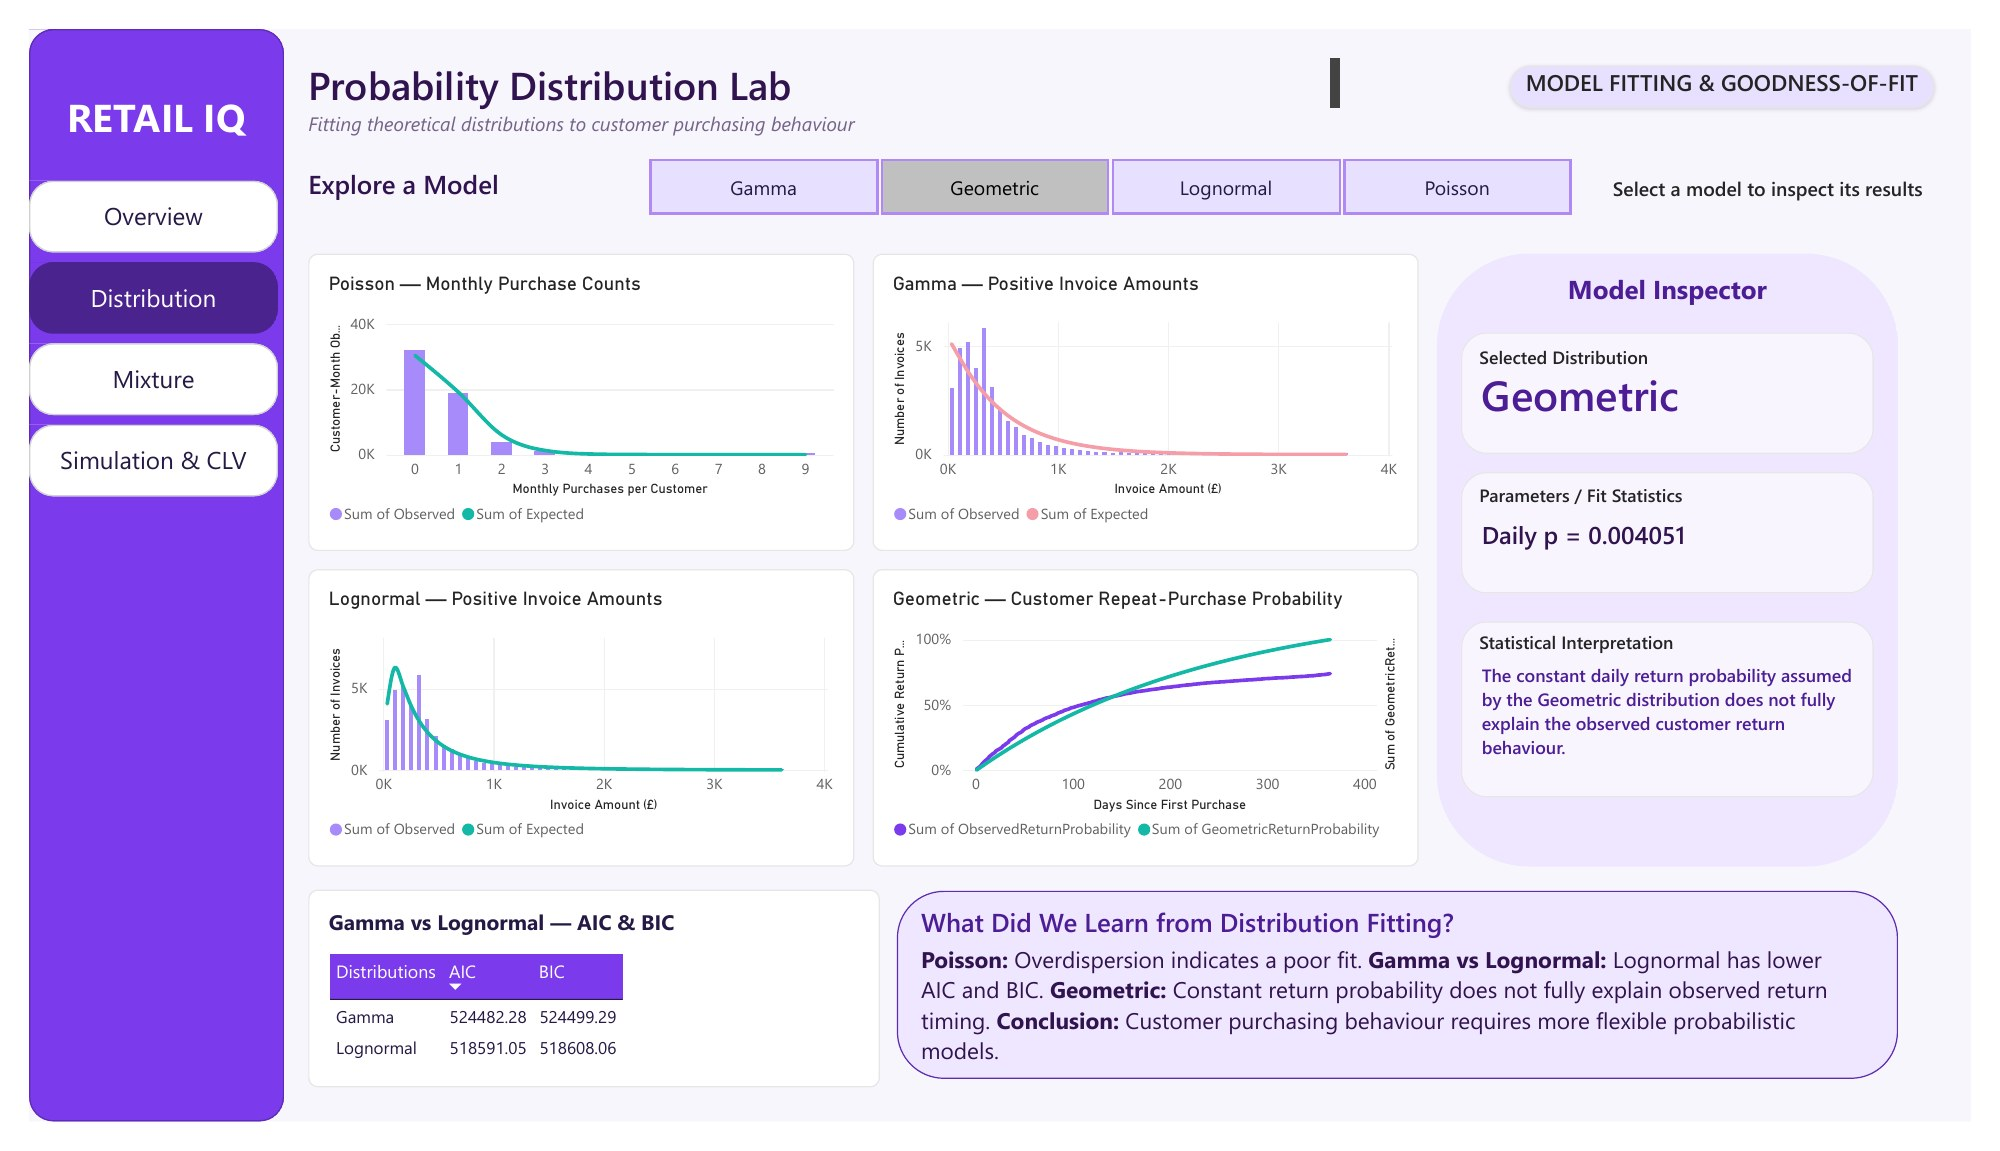

The dashboard page shown, as its layout file describes it:
{"tool":"powerbi","page":{"name":"Distribution","canvas":[1600,900],"ordinal":1},"visuals":[{"type":"shape","box":[715,710,825,155],"z":0},{"type":"shape","box":[1160,185,380,505],"z":1000},{"type":"shape","box":[0,0,210,900],"z":2000},{"type":"textbox","box":[0,50,210,71],"z":3000},{"type":"pageNavigator","box":[0,125,205,263],"z":4000},{"type":"textbox","box":[230,24,850,42],"z":5000},{"type":"textbox","box":[230,67,850,25],"z":6000},{"type":"textbox","box":[1220,30,350,35],"z":7000},{"type":"textbox","box":[230,113,240,32],"z":8000},{"type":"slicer","fields":{"Values":["ModelSelector.Model"]},"box":[490,105,800,50],"z":9000},{"type":"textbox","box":[1305.2,120.6,266,34.9],"z":10000},{"type":"lineClusteredColumnComboChart","title":"Poisson — Monthly Purchase Counts","fields":{"Category":["Poisson_Observed_Expected.CountCategory"],"Y":["Sum(Poisson_Observed_Expected.Observed)"],"Y2":["Sum(Poisson_Observed_Expected.Expected)"]},"box":[230,185,450,245],"z":11000},{"type":"lineClusteredColumnComboChart","title":"Gamma — Positive Invoice Amounts","fields":{"Category":["Gamma_Observed_Expected.BinCenter"],"Y":["Sum(Gamma_Observed_Expected.Observed)"],"Y2":["Sum(Gamma_Observed_Expected.Expected)"]},"box":[695,185,450,245],"z":12000},{"type":"lineClusteredColumnComboChart","title":"Lognormal — Positive Invoice Amounts","fields":{"Category":["Lognormal_Observed_Expected.BinCenter"],"Y":["Sum(Lognormal_Observed_Expected.Observed)"],"Y2":["Sum(Lognormal_Observed_Expected.Expected)"]},"box":[230,445,450,245],"z":13000},{"type":"lineChart","title":"Geometric — Customer Repeat-Purchase Probability","fields":{"Category":["Geometric_Return_Curves.Day"],"Y":["Sum(Geometric_Return_Curves.ObservedReturnProbability)"],"Y2":["Sum(Geometric_Return_Curves.GeometricReturnProbability)"]},"box":[695,445,450,245],"z":14000},{"type":"textbox","box":[1180,200,340,34],"z":15000},{"type":"cardVisual","fields":{"Data":["ModelSelector.Selected Model Name"]},"box":[1180,250,340,100],"z":16000},{"type":"textbox","box":[1195,260,300,24],"z":17000},{"type":"cardVisual","fields":{"Data":["ModelSelector.Model Parameters"]},"box":[1180,365,340,100],"z":18000},{"type":"textbox","box":[1195,374,310,25],"z":19000},{"type":"cardVisual","fields":{"Data":["ModelSelector.Model Interpretation"]},"box":[1180.2,488.4,340.1,145.3],"z":20000},{"type":"textbox","box":[1195,495,310,25],"z":21000},{"type":"tableEx","title":"Gamma vs Lognormal — AIC & BIC","fields":{"Values":["InvoiceModelComparison.Distributions","InvoiceModelComparison.AIC","InvoiceModelComparison.BIC"]},"box":[229.7,709.3,470.9,162.8],"z":22000},{"type":"textbox","box":[735.5,720.9,784.9,33.4],"z":22001},{"type":"textbox","box":[735.5,754.4,774.7,110.5],"z":22002}]}

Visuals, with their boxes in screenshot pixels (x1, y1, x2, y2), scaled from the page's 1600x900 canvas onto the 2000x1151 screenshot:
shape: {"x1": 894, "y1": 908, "x2": 1925, "y2": 1106}
shape: {"x1": 1450, "y1": 237, "x2": 1925, "y2": 882}
shape: {"x1": 0, "y1": 0, "x2": 262, "y2": 1150}
textbox: {"x1": 0, "y1": 64, "x2": 262, "y2": 155}
pageNavigator: {"x1": 0, "y1": 160, "x2": 256, "y2": 496}
textbox: {"x1": 288, "y1": 31, "x2": 1350, "y2": 84}
textbox: {"x1": 288, "y1": 86, "x2": 1350, "y2": 118}
textbox: {"x1": 1525, "y1": 38, "x2": 1962, "y2": 83}
textbox: {"x1": 288, "y1": 145, "x2": 588, "y2": 185}
slicer - ModelSelector.Model: {"x1": 612, "y1": 134, "x2": 1612, "y2": 198}
textbox: {"x1": 1632, "y1": 154, "x2": 1964, "y2": 199}
"Poisson — Monthly Purchase Counts" lineClusteredColumnComboChart: {"x1": 288, "y1": 237, "x2": 850, "y2": 550}
"Gamma — Positive Invoice Amounts" lineClusteredColumnComboChart: {"x1": 869, "y1": 237, "x2": 1431, "y2": 550}
"Lognormal — Positive Invoice Amounts" lineClusteredColumnComboChart: {"x1": 288, "y1": 569, "x2": 850, "y2": 882}
"Geometric — Customer Repeat-Purchase Probability" lineChart: {"x1": 869, "y1": 569, "x2": 1431, "y2": 882}
textbox: {"x1": 1475, "y1": 256, "x2": 1900, "y2": 299}
cardVisual - ModelSelector.Selected Model Name: {"x1": 1475, "y1": 320, "x2": 1900, "y2": 448}
textbox: {"x1": 1494, "y1": 333, "x2": 1869, "y2": 363}
cardVisual - ModelSelector.Model Parameters: {"x1": 1475, "y1": 467, "x2": 1900, "y2": 595}
textbox: {"x1": 1494, "y1": 478, "x2": 1881, "y2": 510}
cardVisual - ModelSelector.Model Interpretation: {"x1": 1475, "y1": 625, "x2": 1900, "y2": 810}
textbox: {"x1": 1494, "y1": 633, "x2": 1881, "y2": 665}
"Gamma vs Lognormal — AIC & BIC" tableEx: {"x1": 287, "y1": 907, "x2": 876, "y2": 1115}
textbox: {"x1": 919, "y1": 922, "x2": 1900, "y2": 965}
textbox: {"x1": 919, "y1": 965, "x2": 1888, "y2": 1106}
